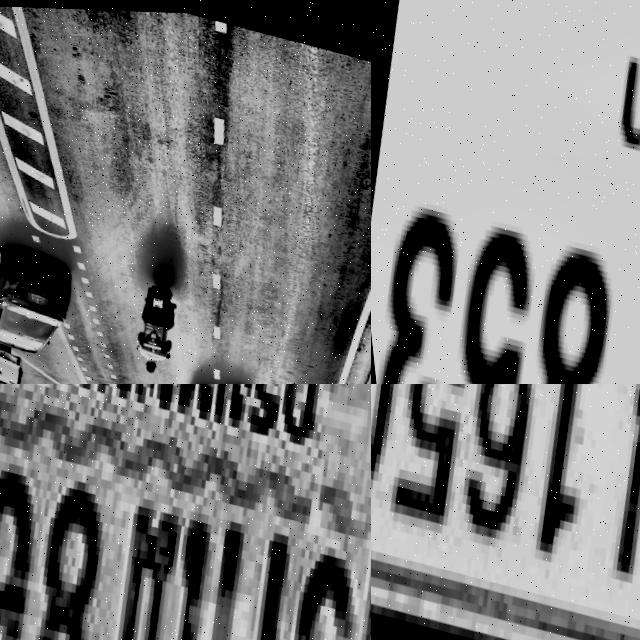license-plate: (371, 0, 640, 384), (0, 384, 371, 640), (371, 384, 640, 640), (18, 289, 43, 307), (144, 294, 157, 307)
